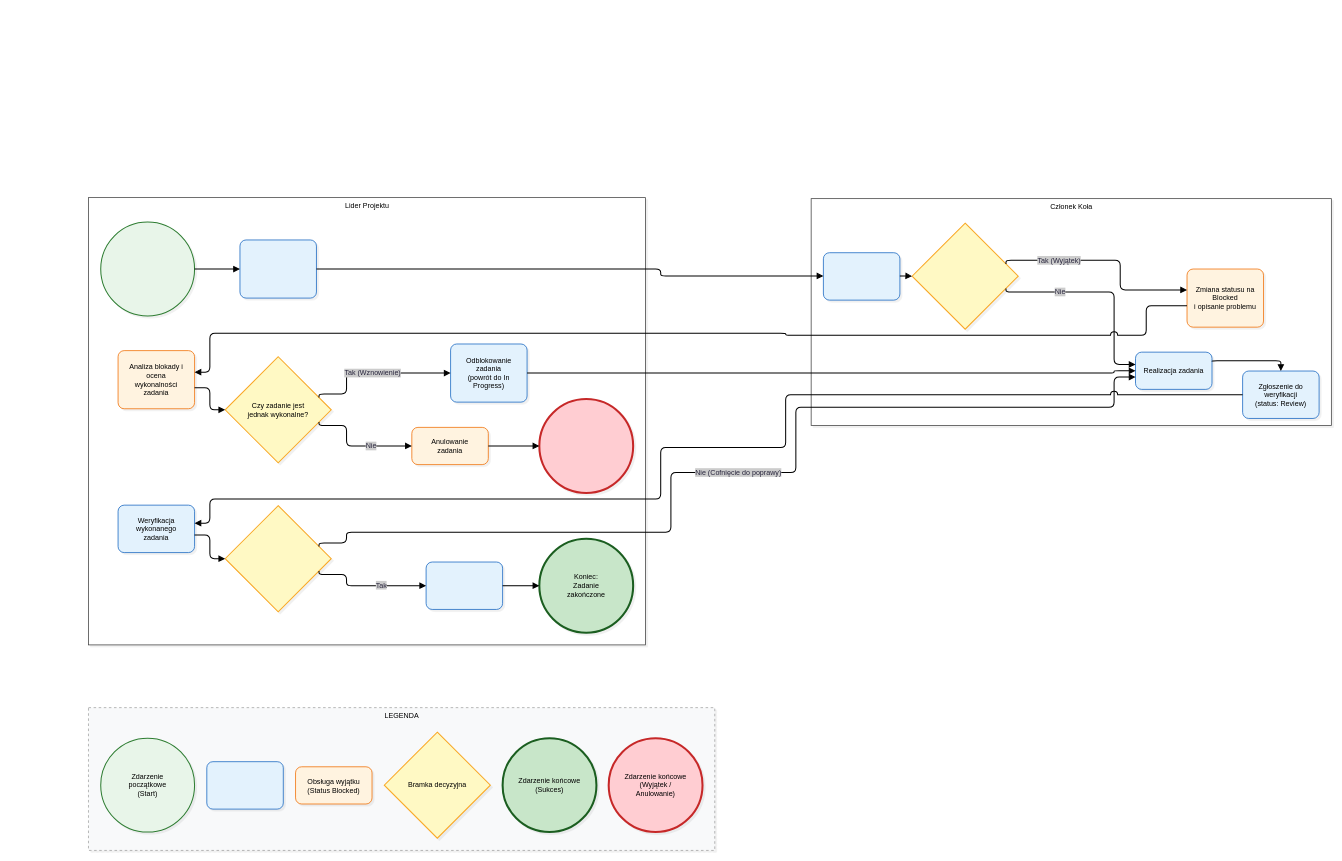
The diagram is 1342 pixels wide and 861 high, and some of its shapes have lost their labels. Here are the shapes that lost their labels. From the top down, the centre of each, then its label:
At pixel 148 269: "Start: Potrzeba zadania".
At pixel 279 269: "Utworzenie zadania (To Do) i przypisanie wykonawcy".
At pixel 862 277: "Podjęcie zadania (status: In Progress)".
At pixel 966 277: "Czy wystąpił problem / brak zasobów?".
At pixel 587 447: "Koniec wyjątkowy: Zadanie przerwane".
At pixel 279 559: "Czy zadanie spełnia wymagania?".
At pixel 465 586: "Zatwierdzenie zadania (status: Done)".
At pixel 245 786: "Zadanie / Czynność (Task)".
